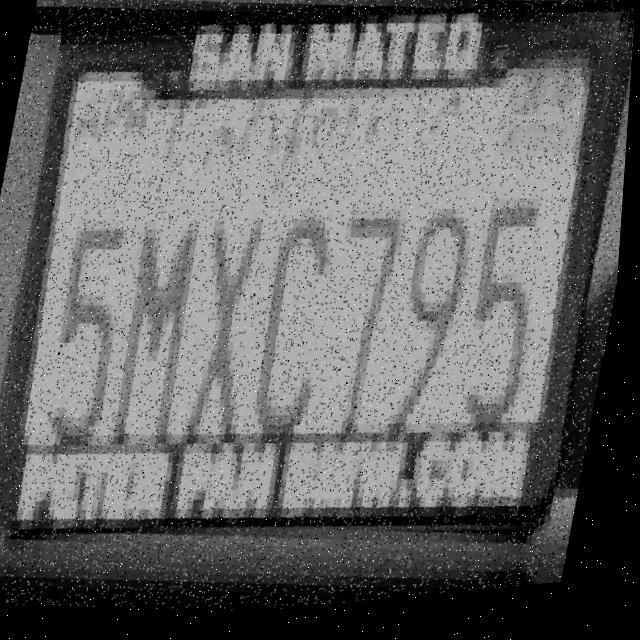LicensePlate: (0, 0, 640, 600)
